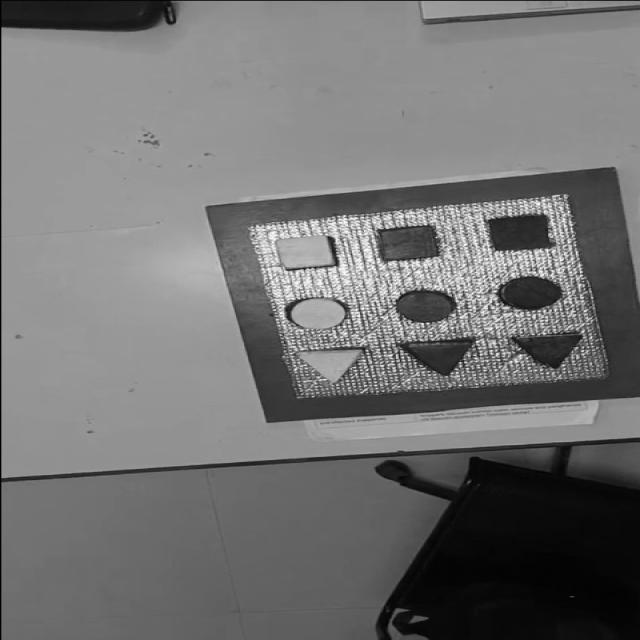bcircle: (498, 276, 563, 310)
btriangle: (512, 332, 586, 369)
mtcube: (486, 213, 554, 252)
rcircle: (395, 290, 455, 323)
rcube: (376, 224, 439, 261)
rtriangle: (401, 338, 477, 376)
wb: (246, 195, 609, 398)
ycircle: (284, 295, 349, 331)
ycube: (273, 233, 337, 270)
ytriangle: (293, 346, 365, 384)
